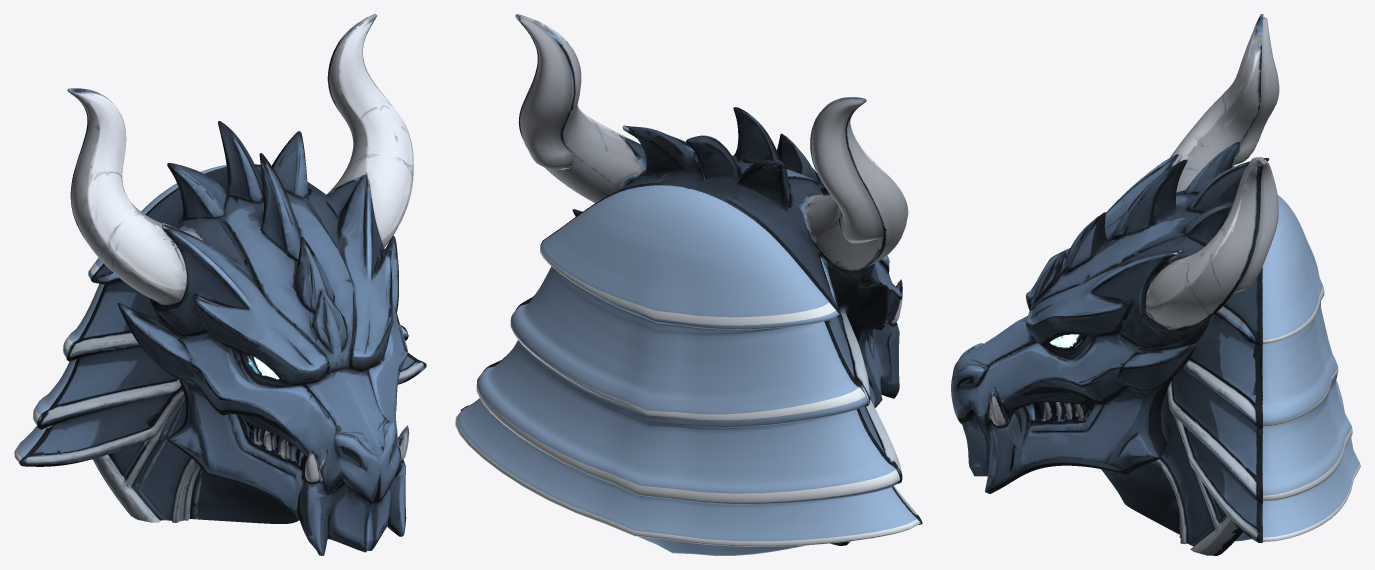
Rendered from h_dragonknight_ice.glb.
3 renders of one model, left to right at view 1: azimuth 30°, elevation 25°; view 2: azimuth 150°, elevation 25°; view 3: azimuth 270°, elevation 25°, orthographic. The views are drawn at different scales.
Visible parts, largest first — view 1: DragonKnightHelm; view 2: DragonKnightHelm; view 3: DragonKnightHelm.
Boxes of the visible parts, x1,y1,x2,y2 form: DragonKnightHelm: [14, 14, 426, 555]; DragonKnightHelm: [455, 14, 922, 555]; DragonKnightHelm: [951, 14, 1360, 555].
Size of the model in its own units: 0.5266 by 0.5271 by 0.4667.
4 materials, 1 textured.
